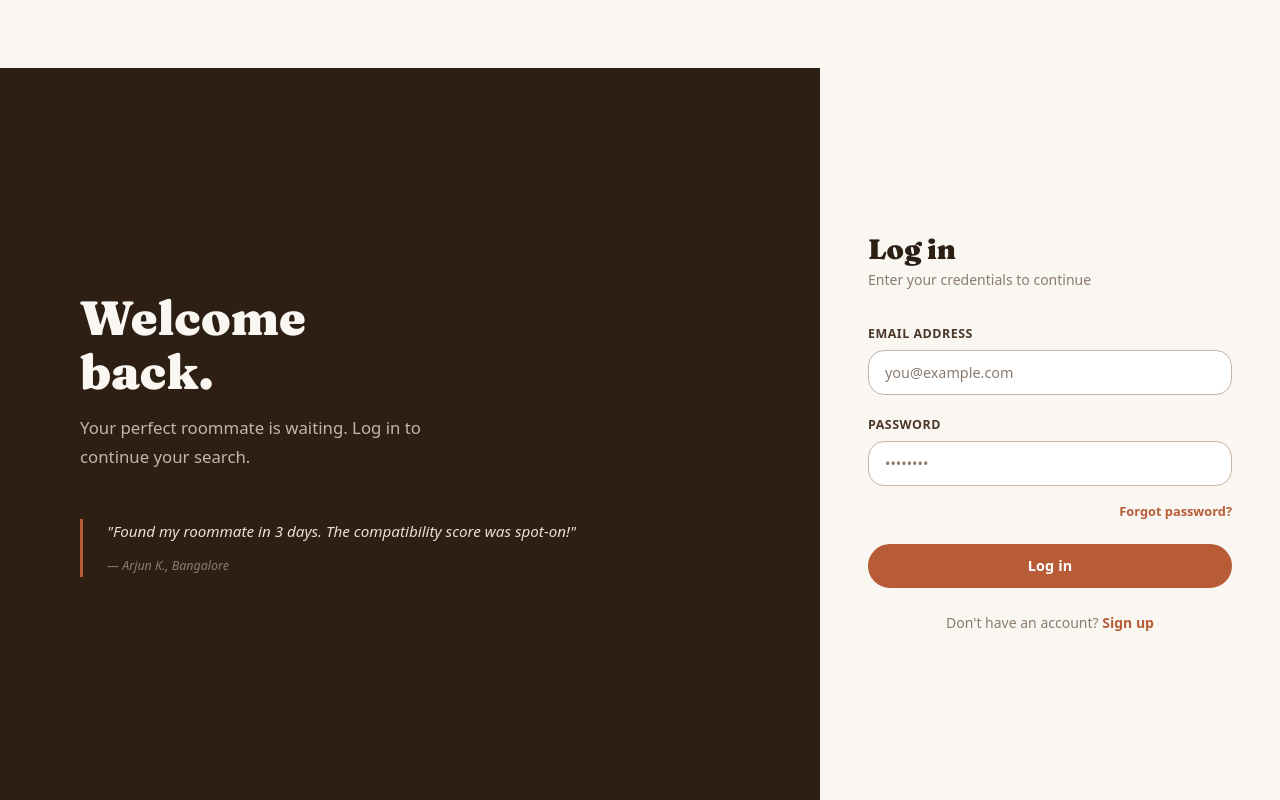
it: Login page › shows invalid email error
The width and height of the screenshot is (1280, 800).
Type "notanemail" into the field with placeholder "you@example.com" at [1050, 372], box [868,350,1232,395]
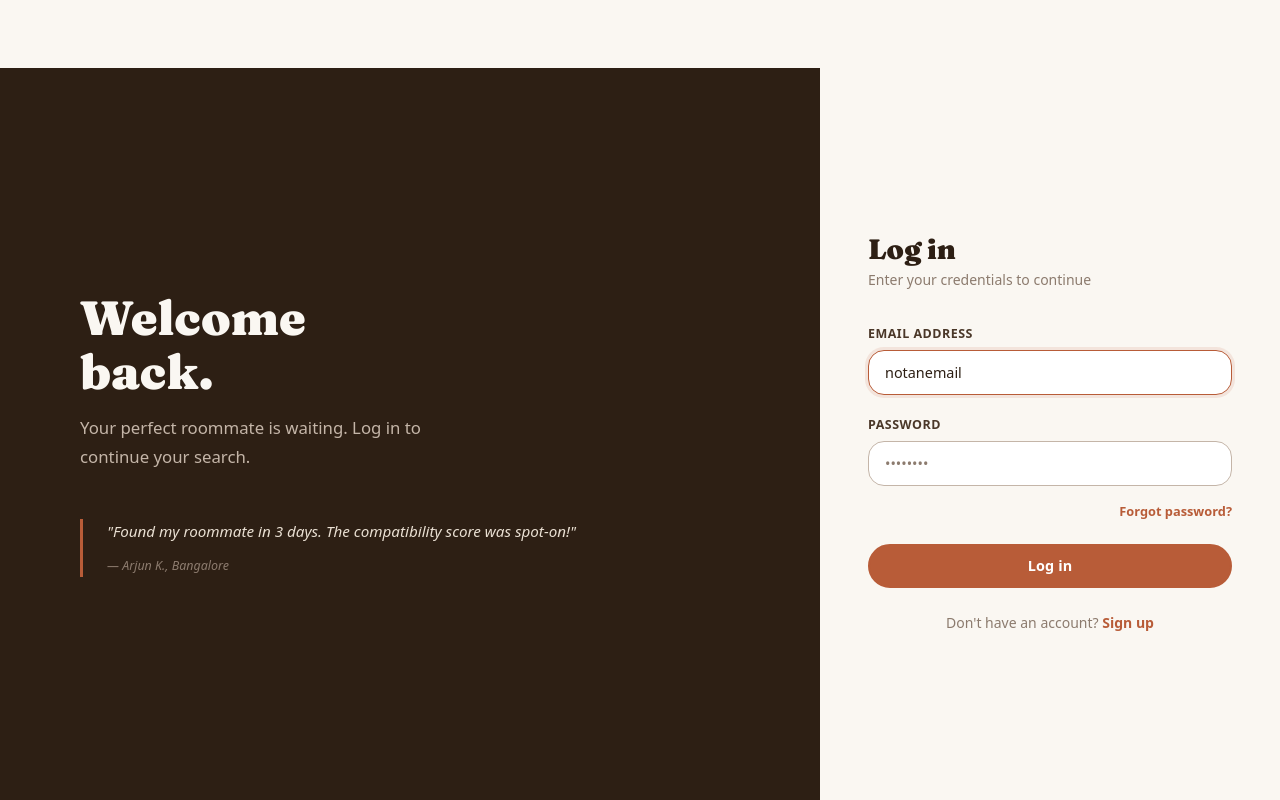
Click the button "Log in" at [1050, 566], box [868,544,1232,588]
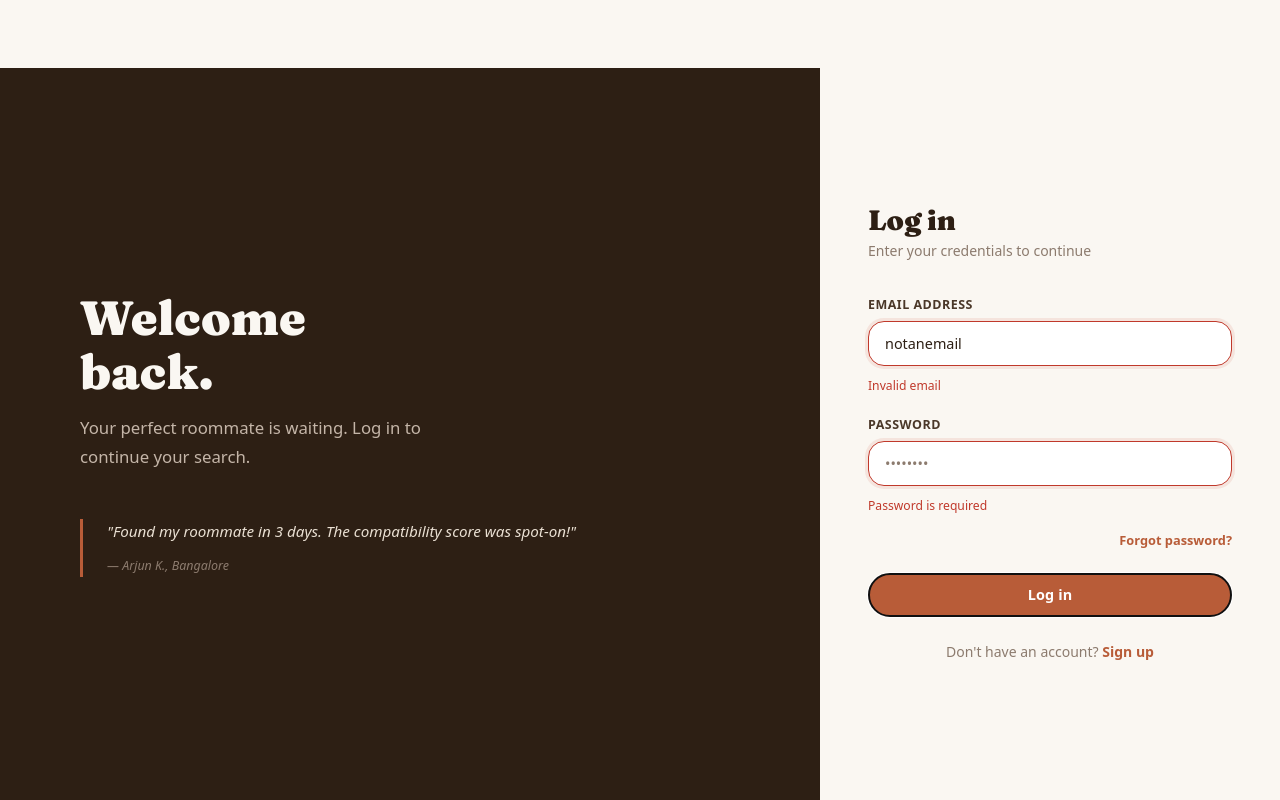
Now the text "Invalid email" is shown, box [868,376,941,394]
